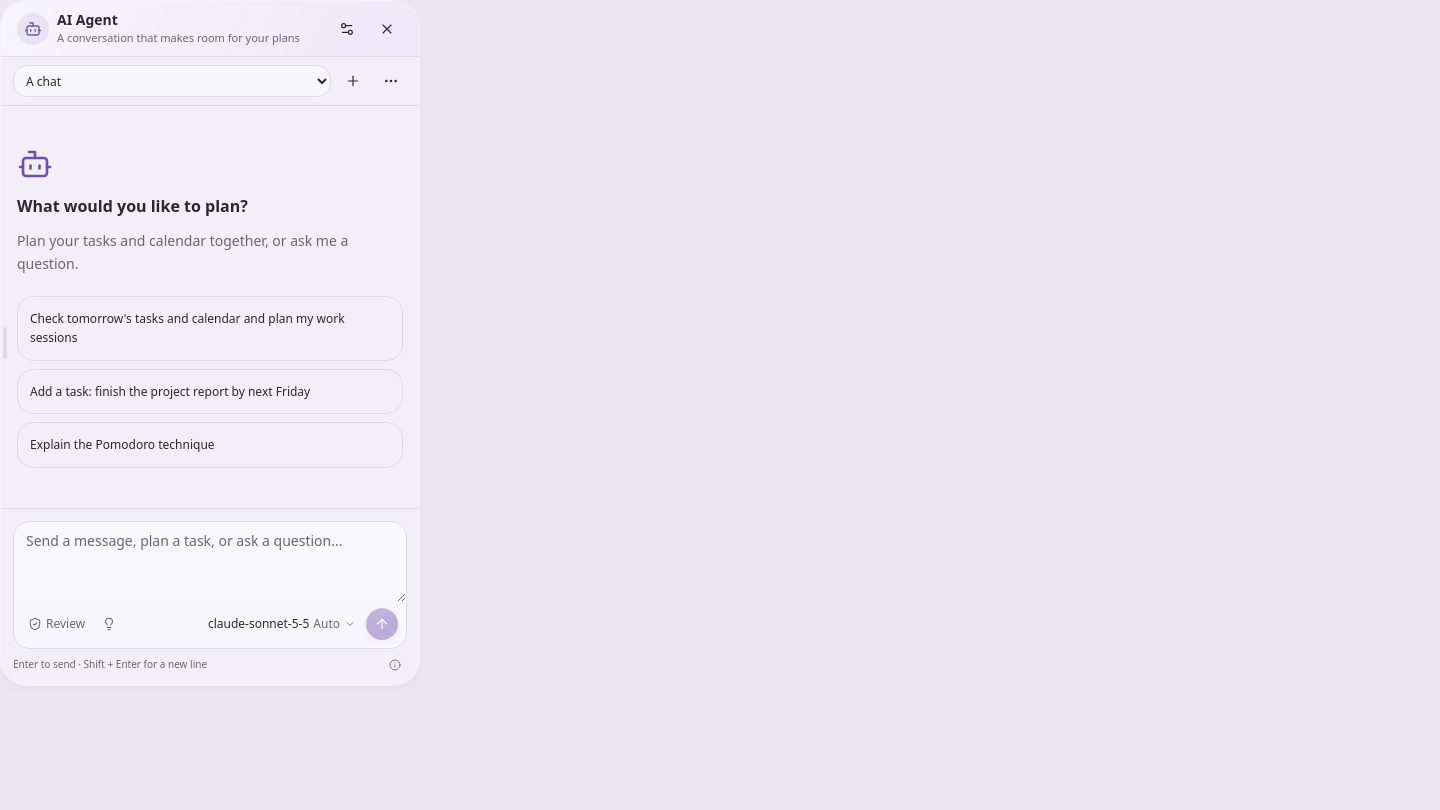
Test: AI Agent sidebar › automatically detects models and persists thinking and execution preferences
The image size is (1440, 810).
Click the button with aria-label "Model and thinking settings".
click(282, 624)  # box left=202, top=608, right=362, bottom=640
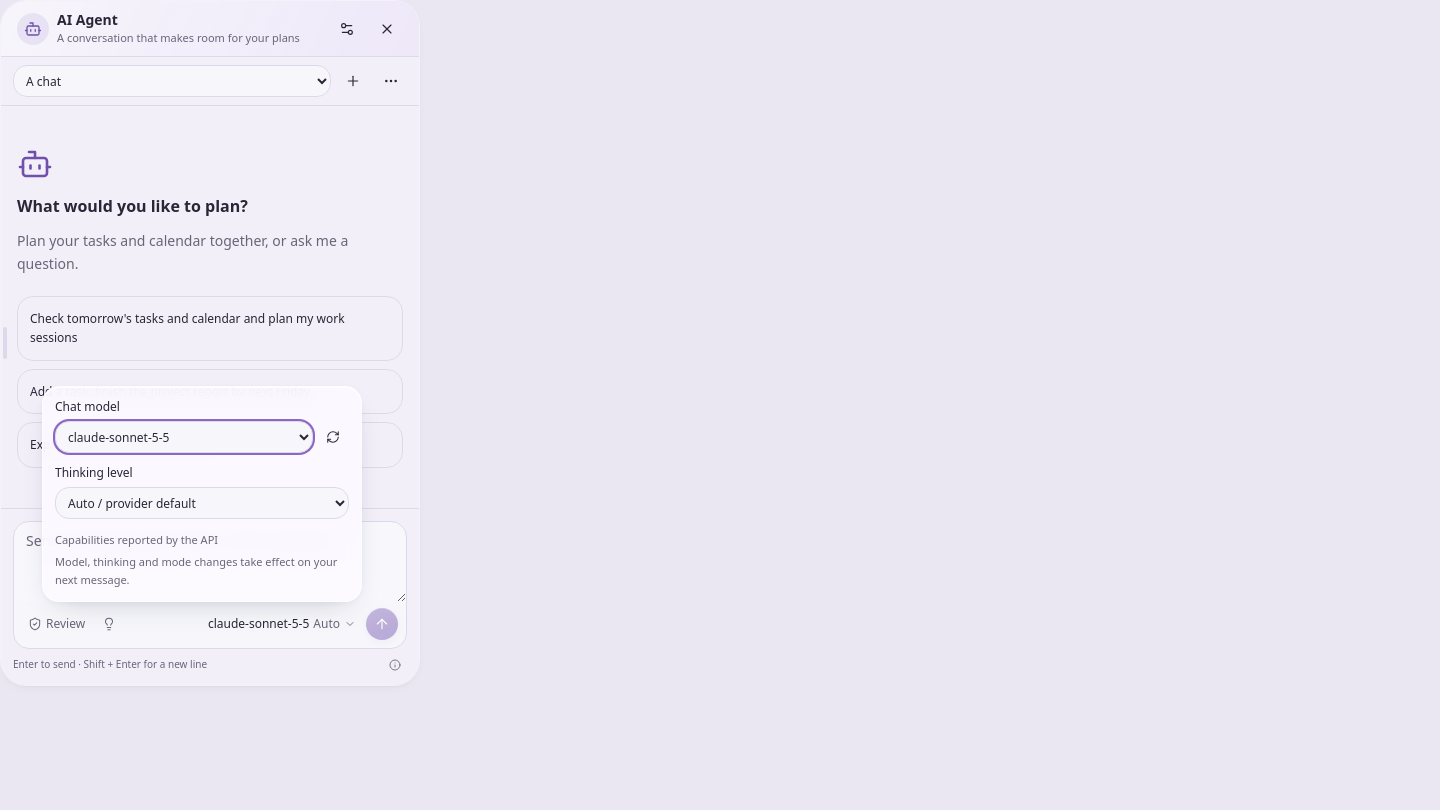
Select "High" in the dropdown labelled "Thinking level" at (202, 503), box left=55, top=487, right=349, bottom=519
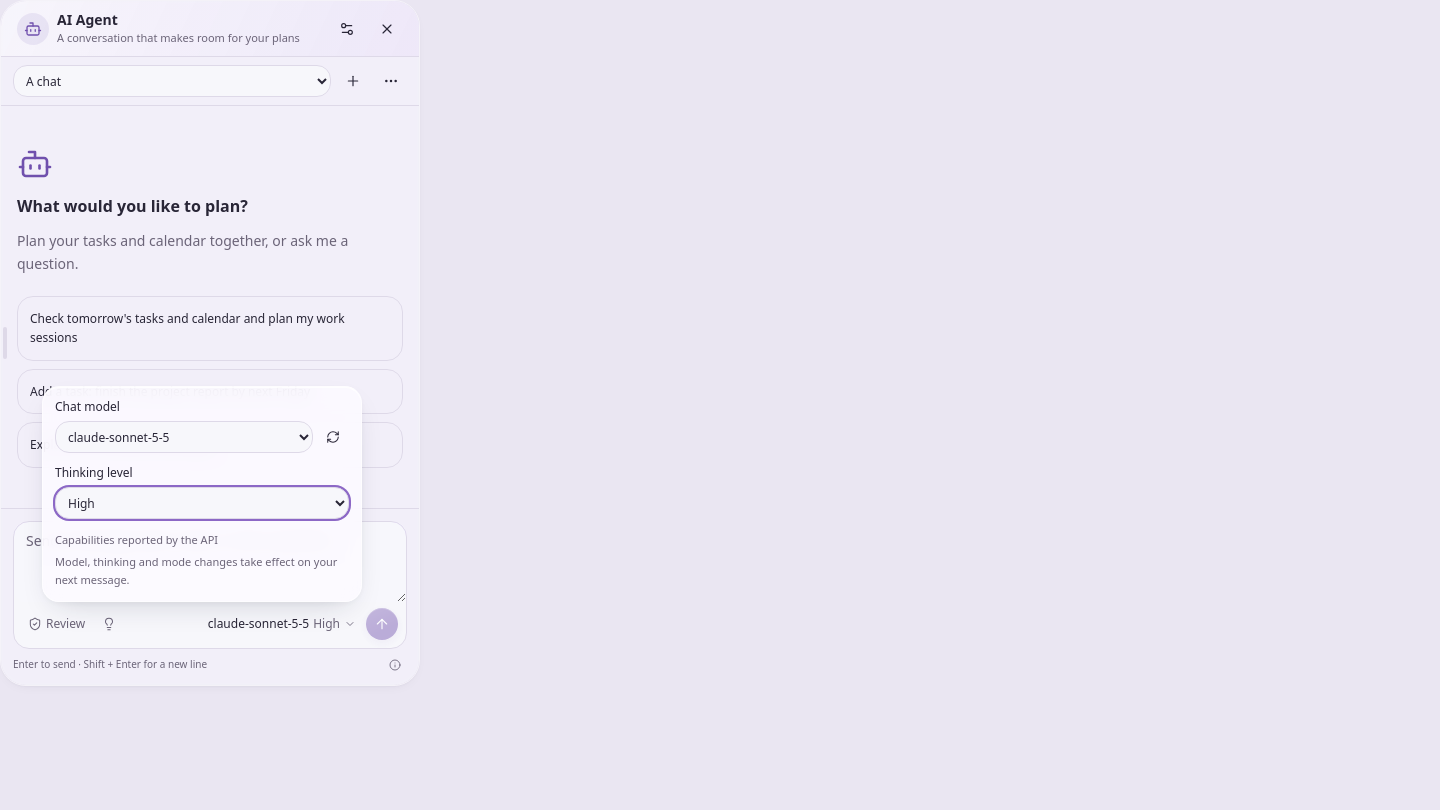
Click the button named "Detect available models again".
click(333, 437)  # box left=317, top=421, right=349, bottom=453
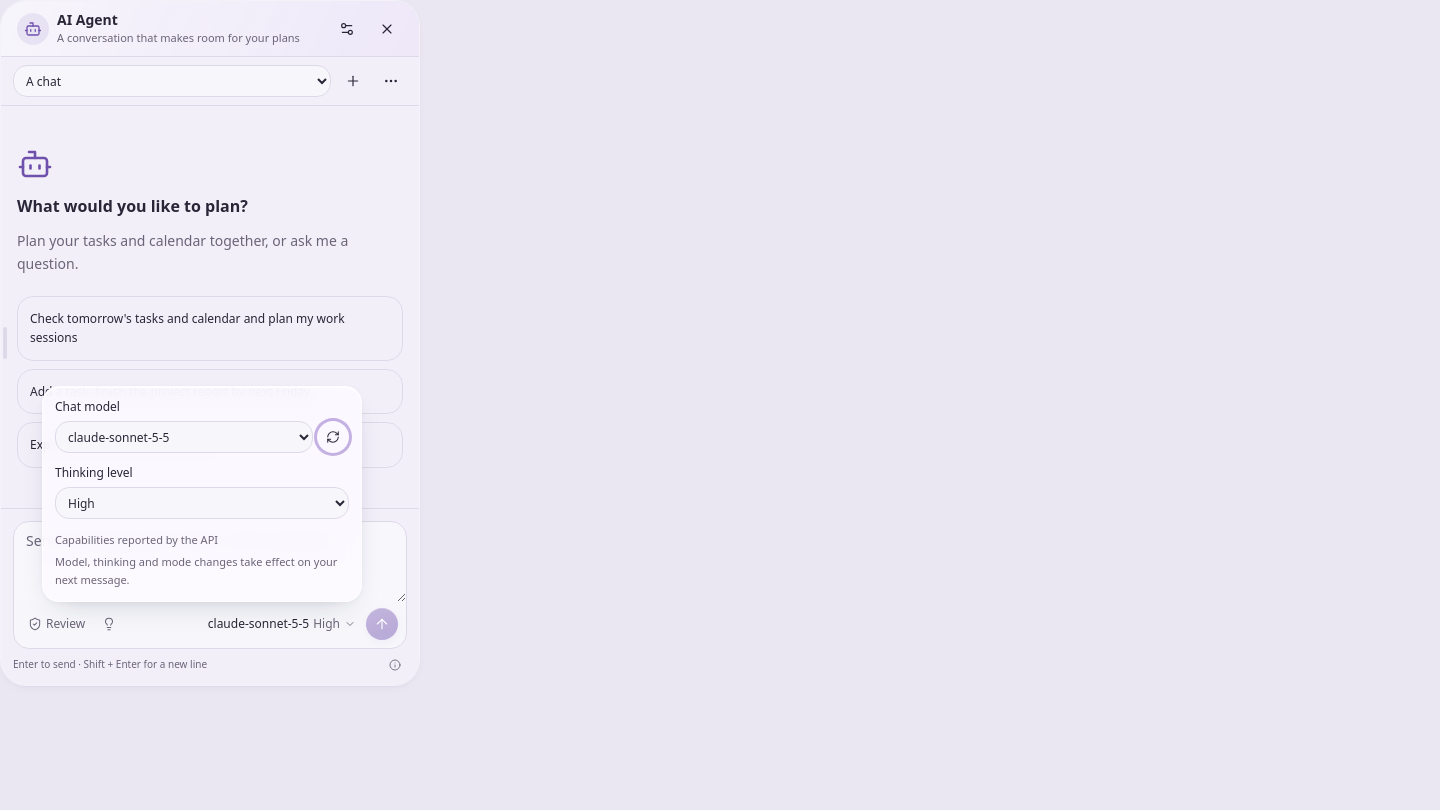
Press Escape
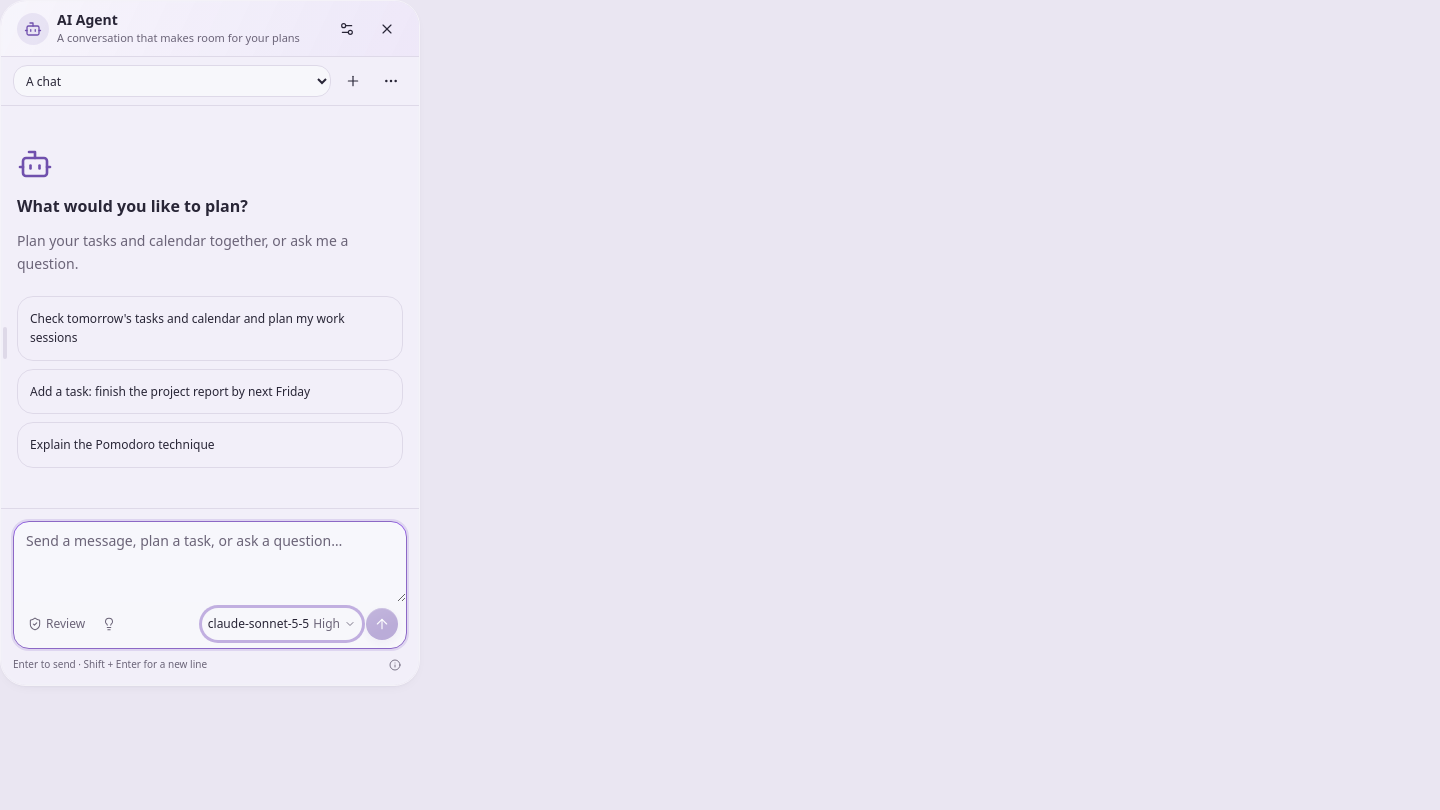
Click the button with aria-label "Execution mode".
click(57, 624)  # box left=22, top=608, right=91, bottom=640
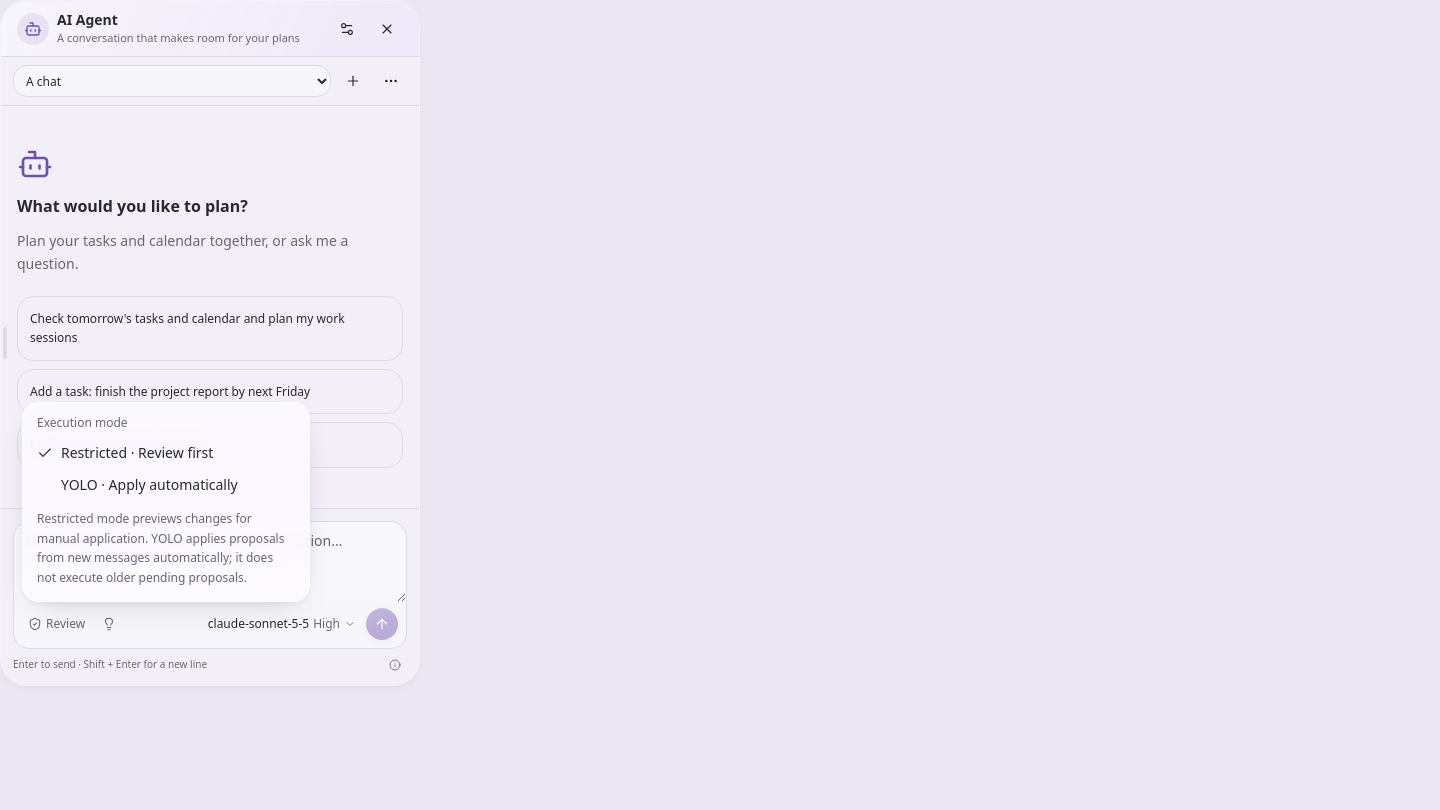
Click the menu item "YOLO · Apply automatically".
click(149, 484)  # box left=61, top=475, right=238, bottom=494
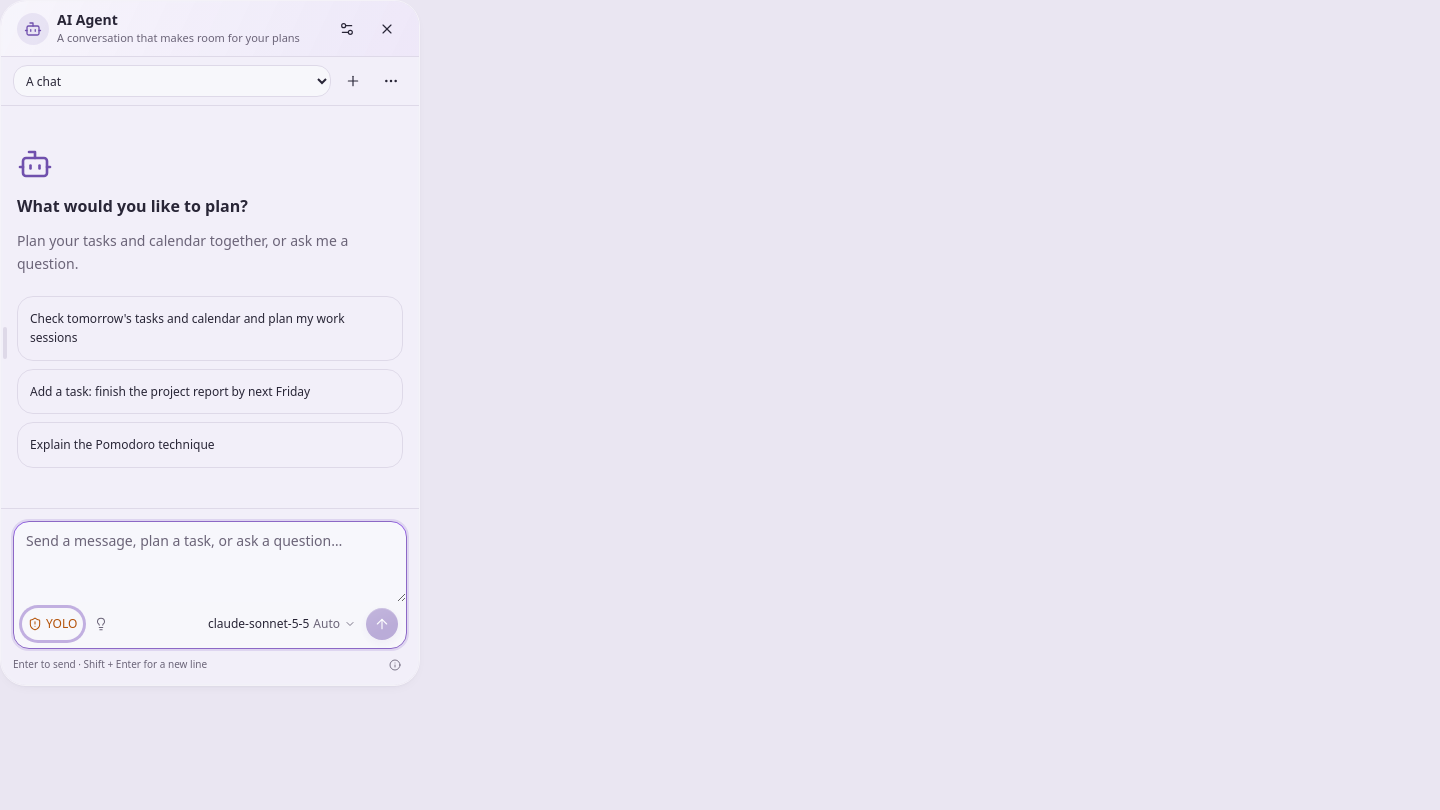
Result: the button with aria-label "Execution mode" reads "YOLO" at left=22, top=608, right=83, bottom=640
